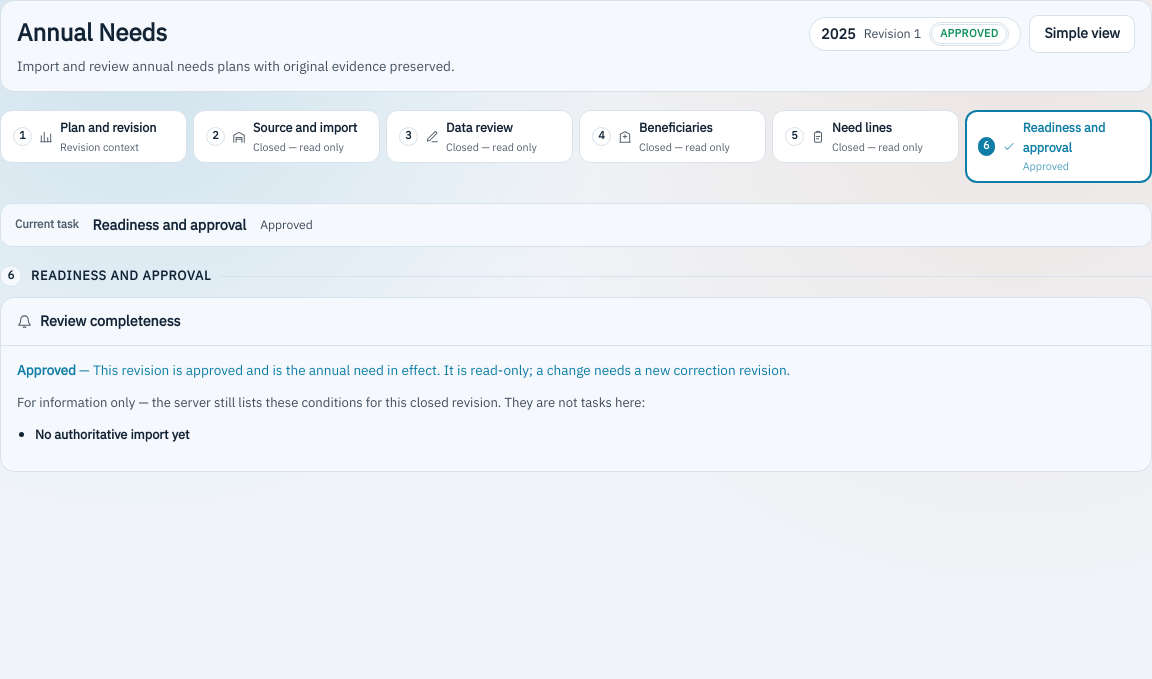
it: C2 — Advanced Mode correction › UI-N2: a correction the server confirmed is not reported as refused when the registry re-read after it fails
Click the button "1 Plan and revision Revision context" at point(94, 137), box [0, 110, 187, 164]
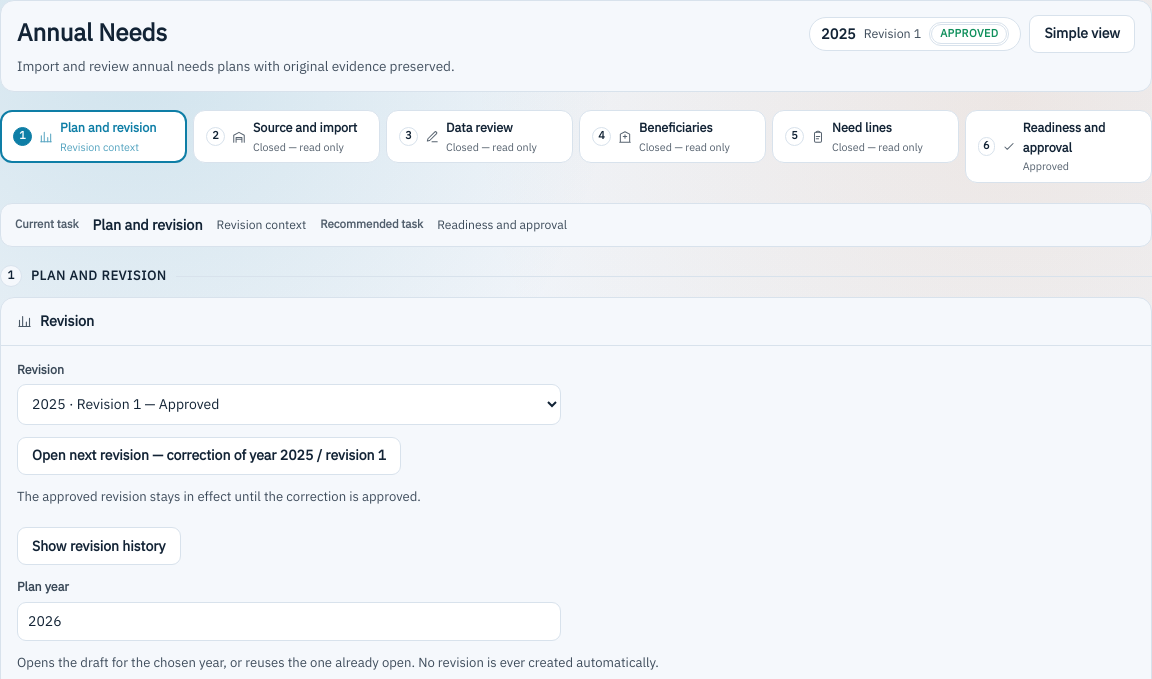
Click the button with test id "cn2b-open-next-revision" at point(209, 456), box [17, 437, 401, 475]
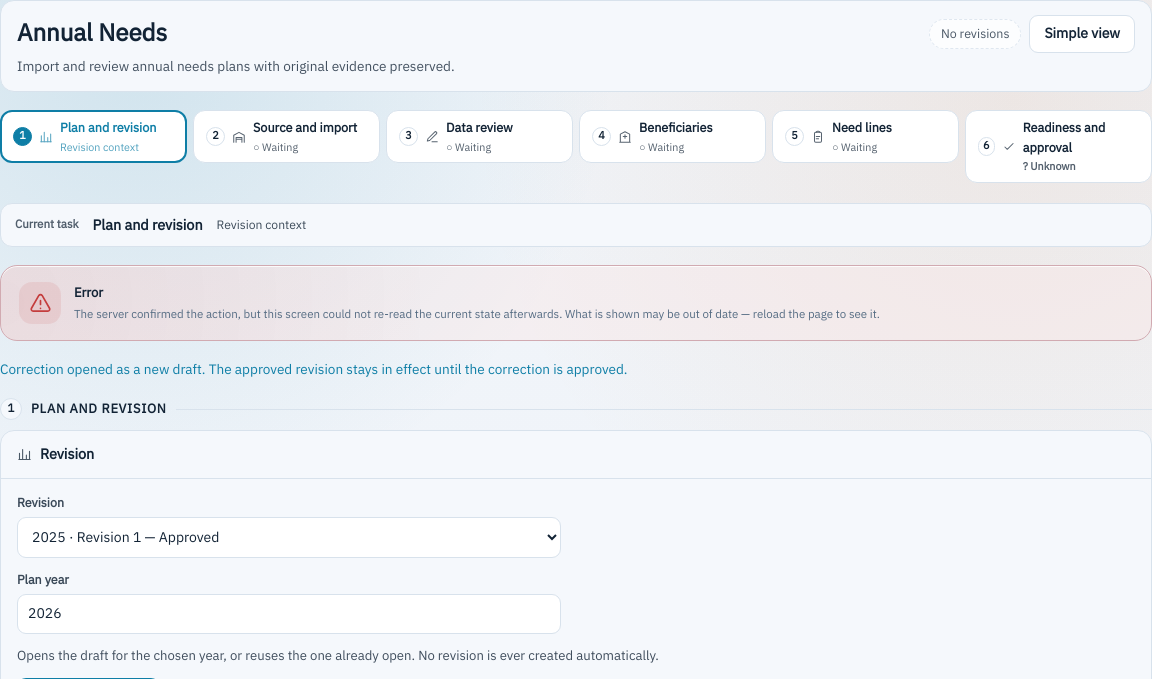
Expected: the text "Correction opened as a new draft. The approved revision stays in effect until the correction is approved." is shown, [0, 359, 628, 380]
Expected: the text "The server confirmed the action, but this screen could not re-read the current state afterwards. What is shown may be ou" is shown, [74, 306, 880, 323]
